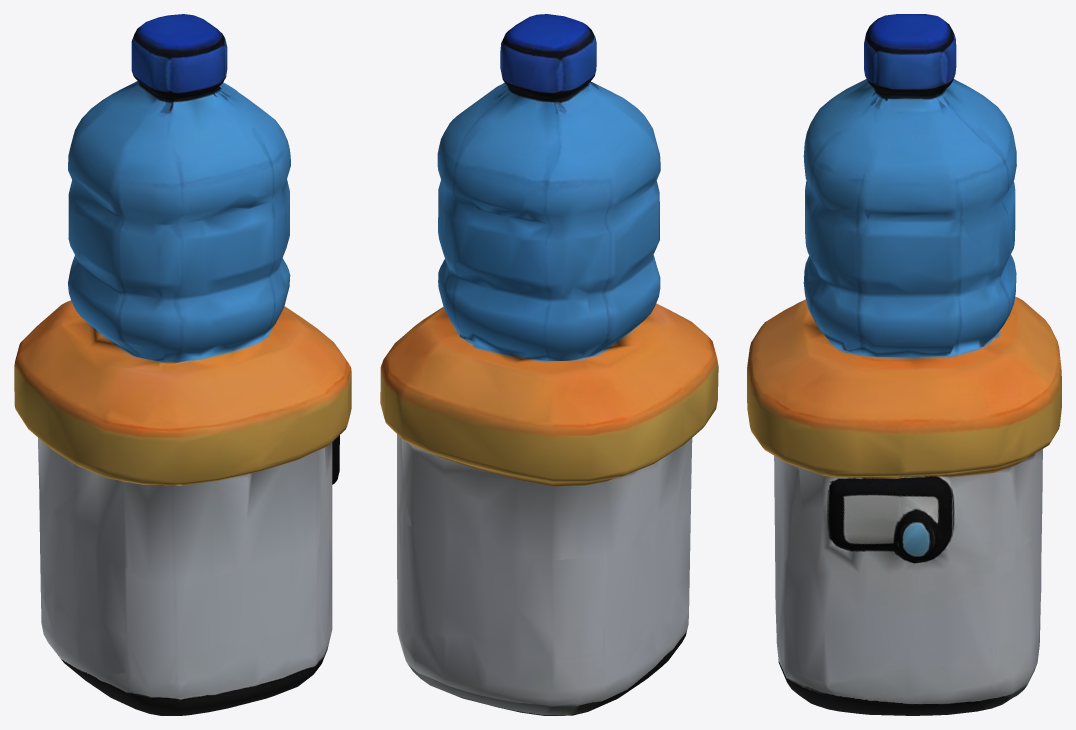
Rendered from water-cooler.glb.
The picture shows the model from 3 angles, left to right: view 1: azimuth 30°, elevation 25°; view 2: azimuth 150°, elevation 25°; view 3: azimuth 270°, elevation 25°; orthographic projection.
Parts seen in each view (by area): view 1: tripo_node_bbce9053-685f-4bbc-99c2-512ab4e43e10; view 2: tripo_node_bbce9053-685f-4bbc-99c2-512ab4e43e10; view 3: tripo_node_bbce9053-685f-4bbc-99c2-512ab4e43e10.
Part boxes in pixels (left/top/right/bottom): tripo_node_bbce9053-685f-4bbc-99c2-512ab4e43e10: left=14, top=14, right=351, bottom=715; tripo_node_bbce9053-685f-4bbc-99c2-512ab4e43e10: left=380, top=14, right=718, bottom=715; tripo_node_bbce9053-685f-4bbc-99c2-512ab4e43e10: left=747, top=14, right=1061, bottom=715.
Size of the model in its own units: 0.4401 by 1 by 0.4372.
1 material, 1 textured.
